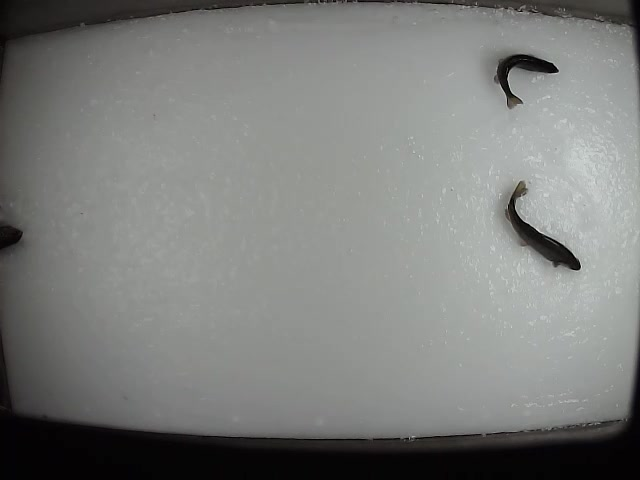fish: (502, 180, 584, 272), (493, 53, 563, 110)
